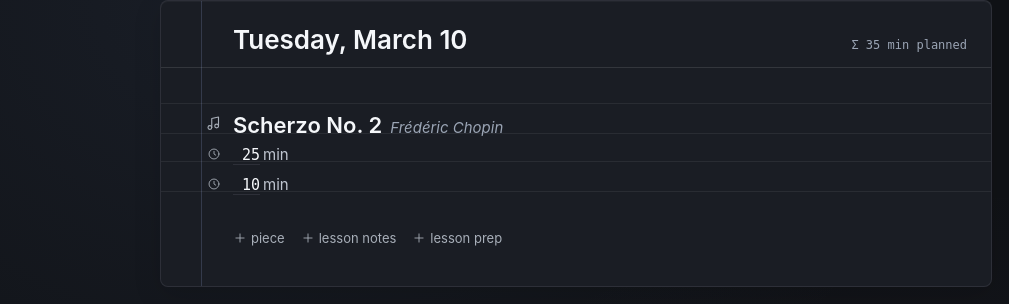
Test case: DaySheet — timed blocks + header total (spec 1/2) › totals block minutes in the header and re-totals when a block is edited
Expected: the text "Σ 35 min planned" is shown, left=851, top=36, right=967, bottom=54
Replace the text in the 2nd field named "Block minutes" with "20": (247, 185) left=233, top=176, right=260, bottom=195
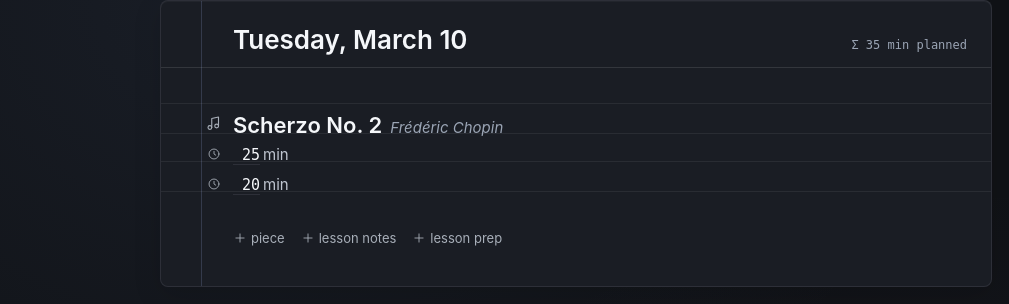
Leave the 2nd field named "Block minutes", box left=233, top=176, right=260, bottom=195
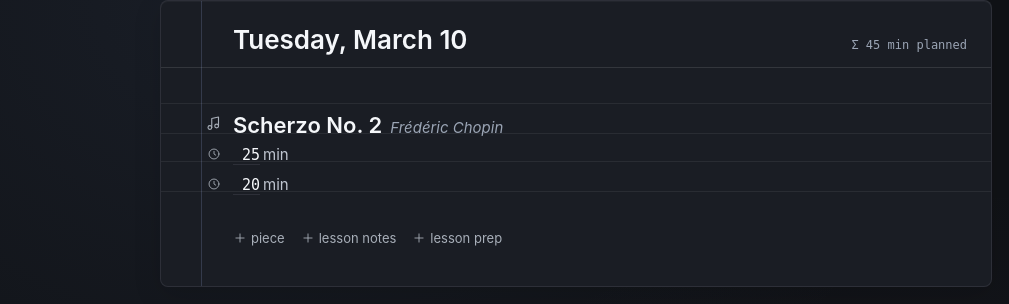
Result: the text "Σ 45 min planned" is shown at left=851, top=36, right=967, bottom=54
